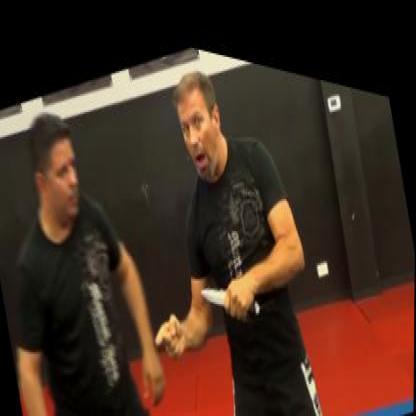knife: (196, 241, 264, 337)
